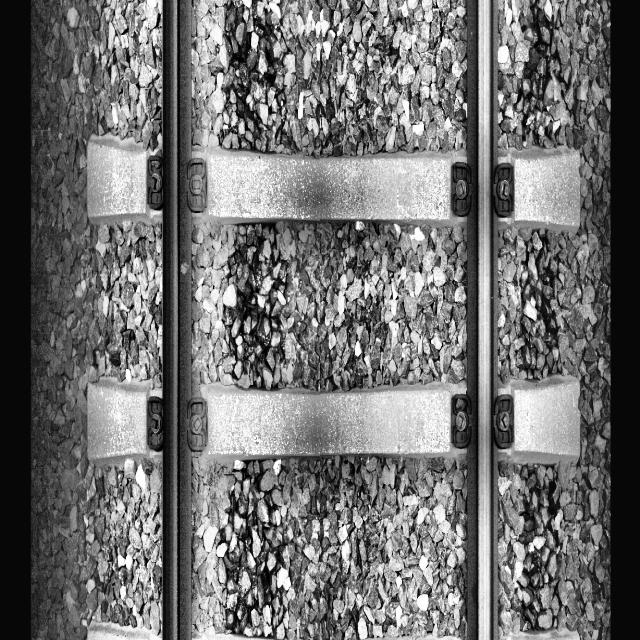Clips: (185, 398, 209, 452), (185, 158, 207, 214), (450, 160, 472, 216), (492, 393, 514, 448), (493, 161, 514, 217), (451, 394, 472, 449), (147, 154, 165, 210), (147, 396, 163, 450)
Sleepers: (88, 376, 582, 468), (86, 140, 582, 231)
